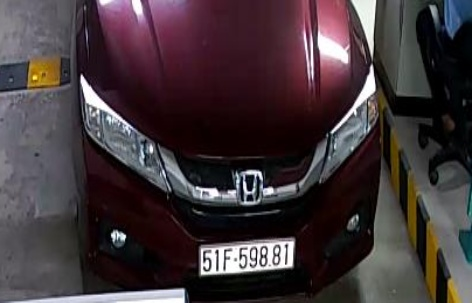plate: (196, 233, 297, 275)
